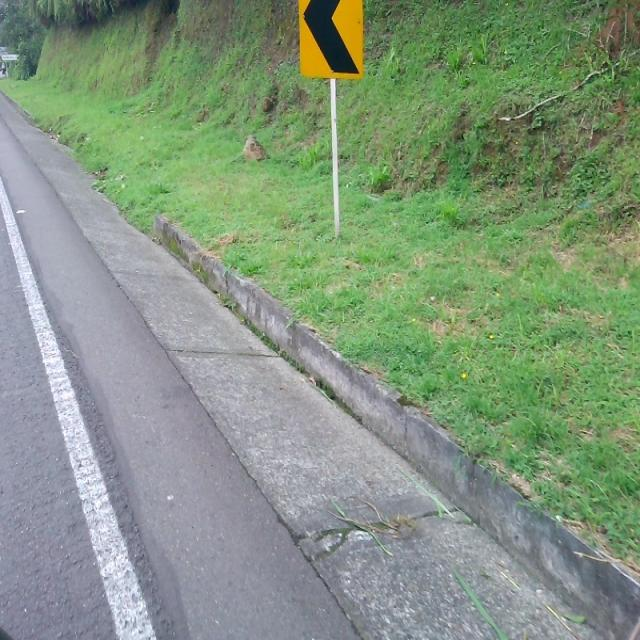DITCH: (1, 87, 638, 638)
